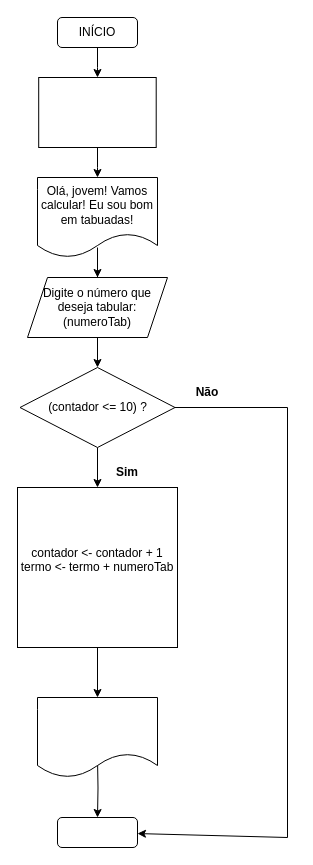
Some shapes in this 313 by 865 pixel diagram are drawn without their labels. The box of each missing label's shape, as (x1, y1, x2, y2) in pixels:
escreva(termo): (36, 696, 158, 778)
FIM: (56, 816, 138, 848)
Inteiro numeroTab <- 0 termo <- 0 contador <- 1: (38, 76, 156, 148)
